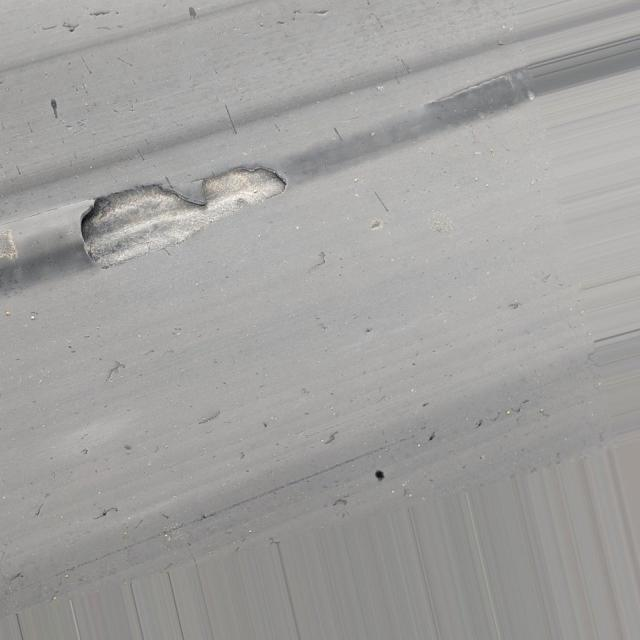Impact Damage: (74, 155, 290, 274)
